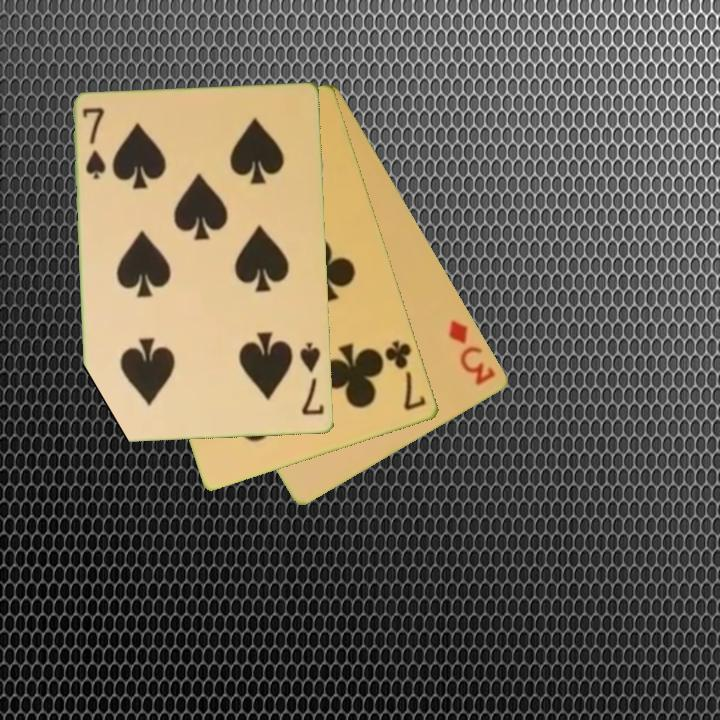3d: (445, 316, 499, 389)
7c: (381, 337, 430, 414)
7s: (296, 340, 327, 419), (79, 105, 109, 183)
